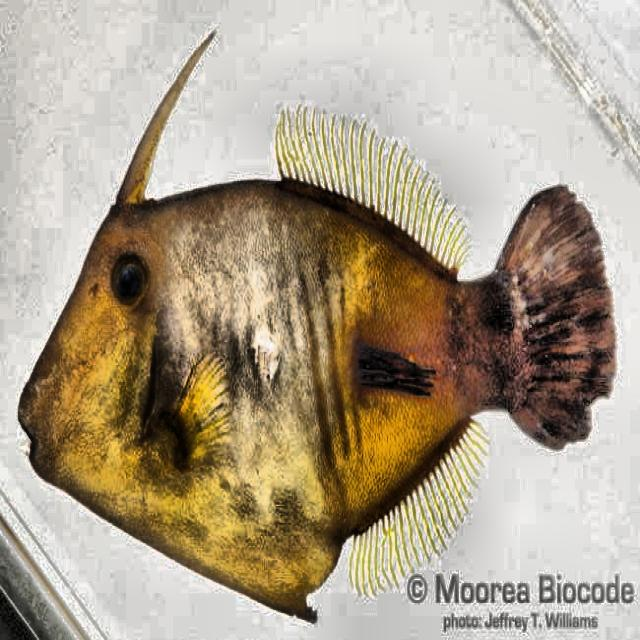fish: (18, 29, 616, 626)
